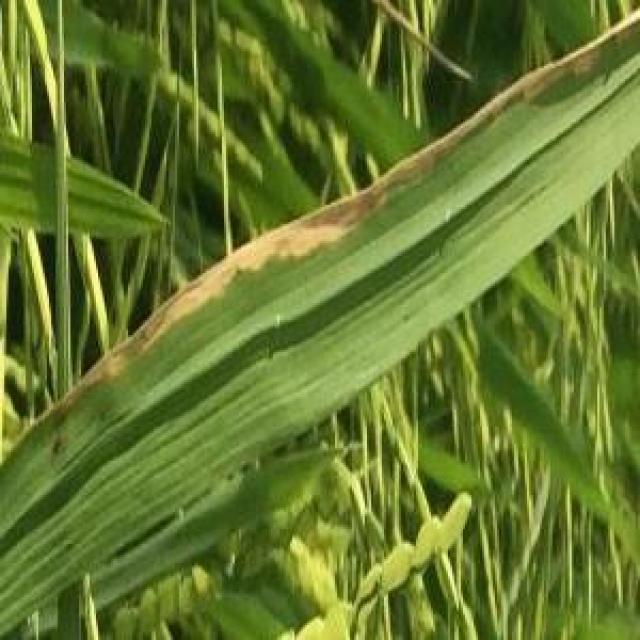leaf blight: (70, 181, 372, 386), (379, 2, 640, 198)
